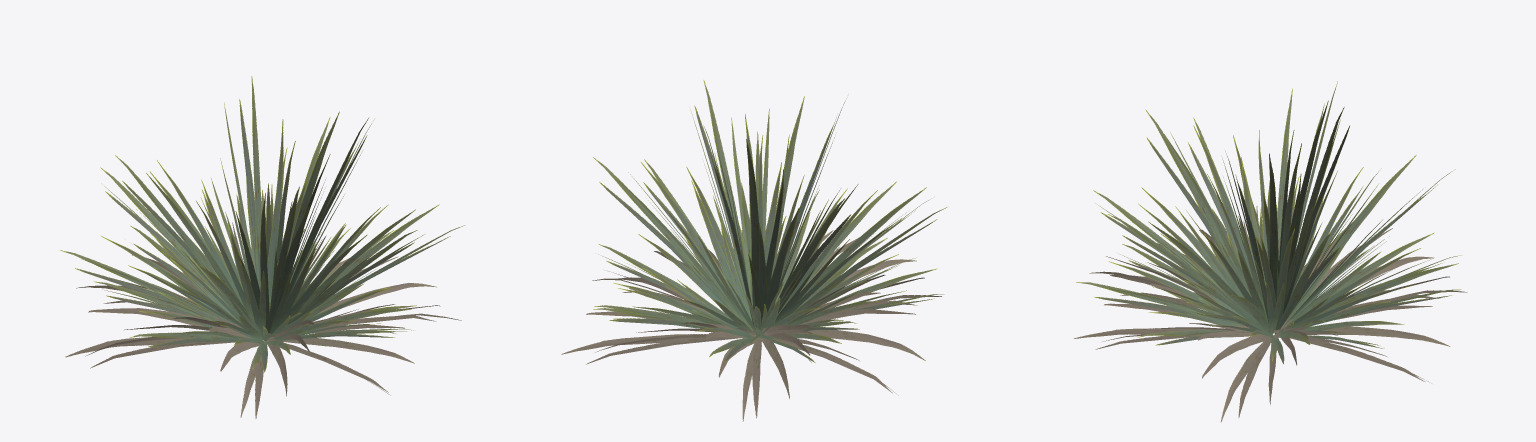
File: plant-2.glb
3 renders of one model, left to right at view 1: azimuth 30°, elevation 25°; view 2: azimuth 150°, elevation 25°; view 3: azimuth 270°, elevation 25°, orthographic. The views are drawn at different scales.
Visible parts, largest first — view 1: yacca leaf 01_3_yacca leaf 01_3Mat_0.082; view 2: yacca leaf 01_3_yacca leaf 01_3Mat_0.082; view 3: yacca leaf 01_3_yacca leaf 01_3Mat_0.082.
Boxes of the visible parts, x1,y1,x2,y2 form: yacca leaf 01_3_yacca leaf 01_3Mat_0.082: [60, 76, 465, 418]; yacca leaf 01_3_yacca leaf 01_3Mat_0.082: [561, 80, 947, 421]; yacca leaf 01_3_yacca leaf 01_3Mat_0.082: [1074, 81, 1467, 422].
Bounding box in the file's own units: 1.12 × 0.7847 × 1.14.
2 materials, 2 textured.
